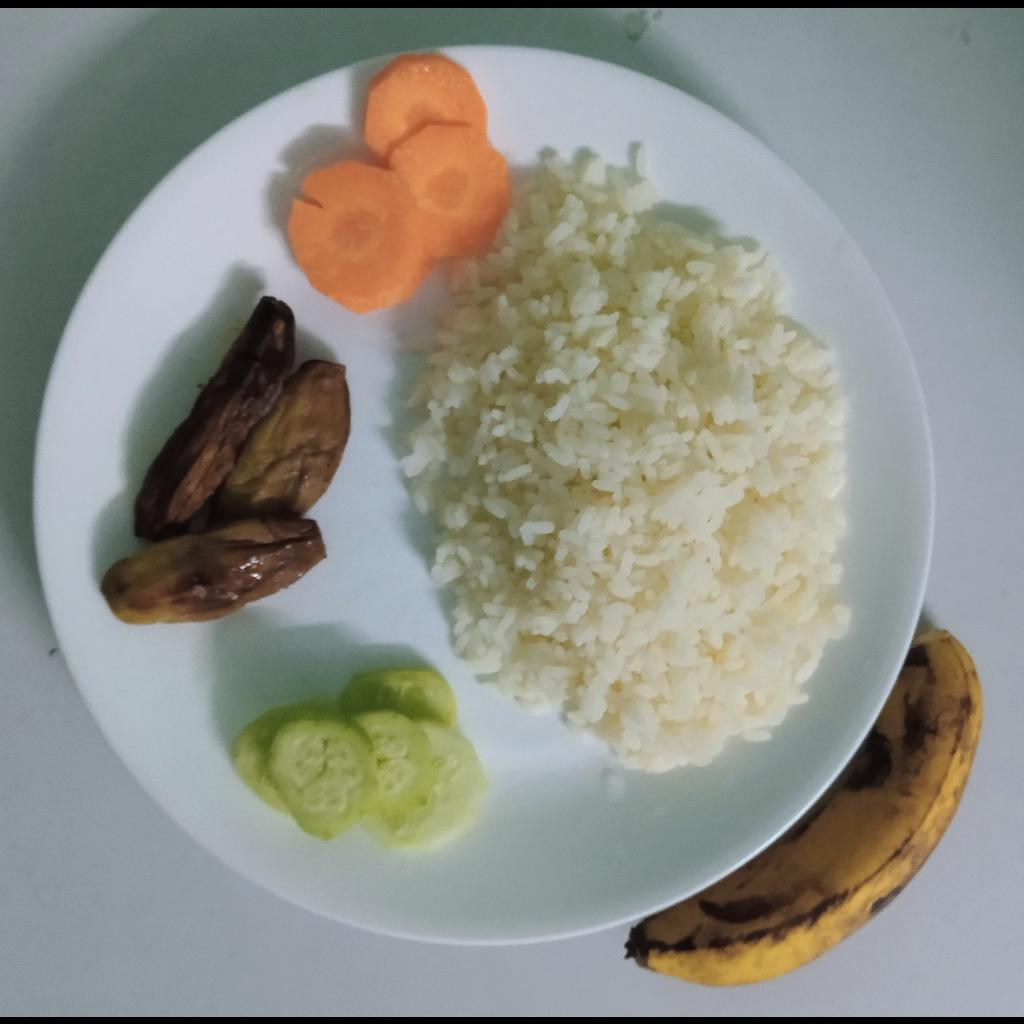banana: (625, 628, 985, 988)
carrot: (288, 53, 509, 311)
cucumber: (230, 668, 488, 853)
potol: (102, 297, 350, 628)
rice: (394, 144, 846, 769)
